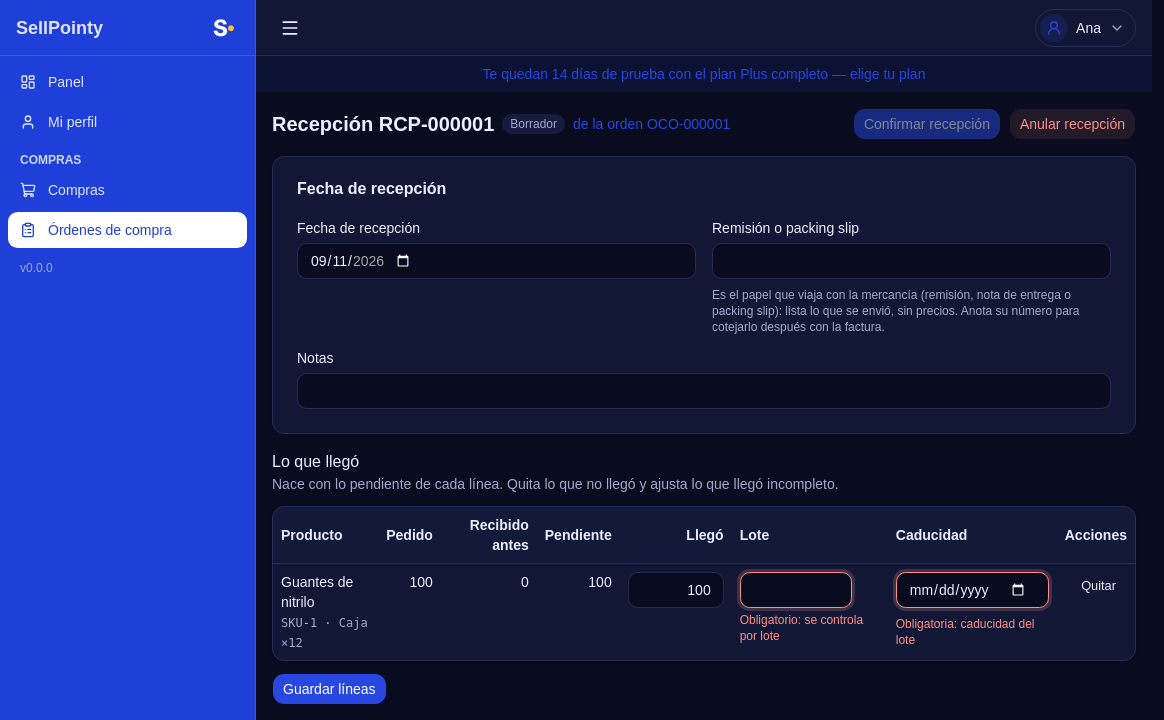
Test: Recepción de una orden (F9-PO-13) › nace con lo pendiente, y el lote se captura como en la compra: mayúsculas y caducidad del registro
The image size is (1164, 720).
Expected: the field named "Llegó" holds "100", top-left (628, 572), bottom-right (724, 608)
Expected: the row with test id "receipt-line-0" shows "100", top-left (410, 574), bottom-right (433, 590)
Step 1. Type "hist-01" into the field named "Lote" → (796, 590), box top-left (740, 572), bottom-right (852, 608)
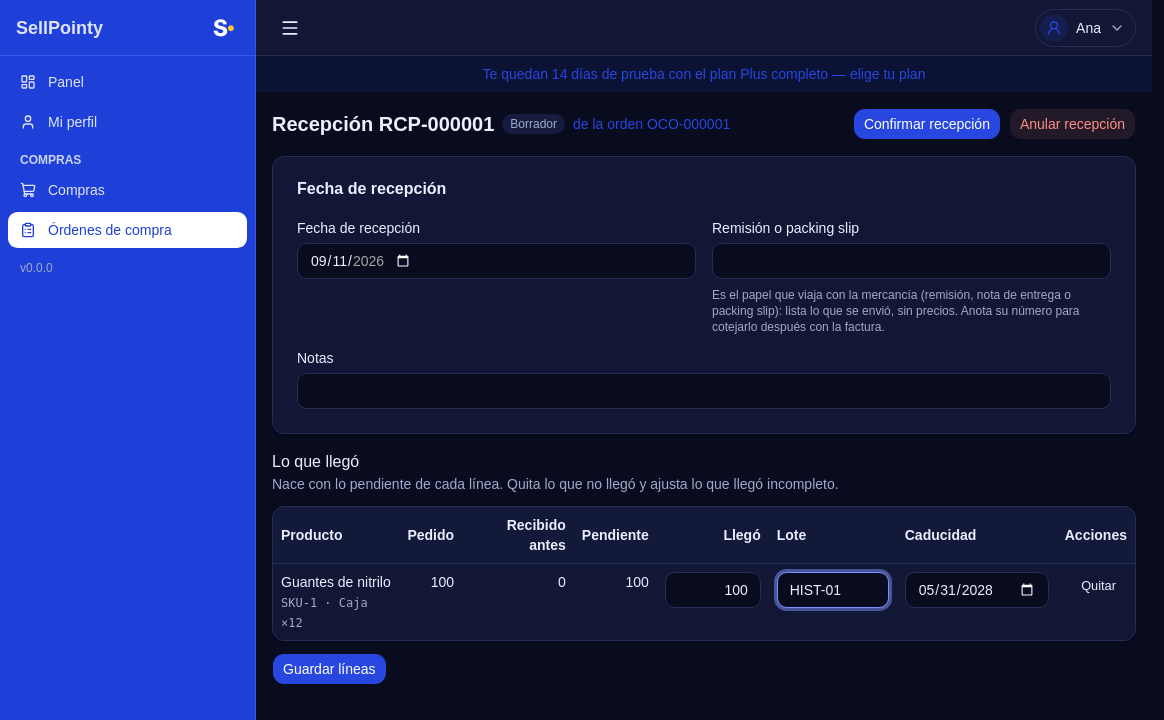
Expected: the date field named "Caducidad" holds "2028-05-31", top-left (905, 572), bottom-right (1049, 608)
